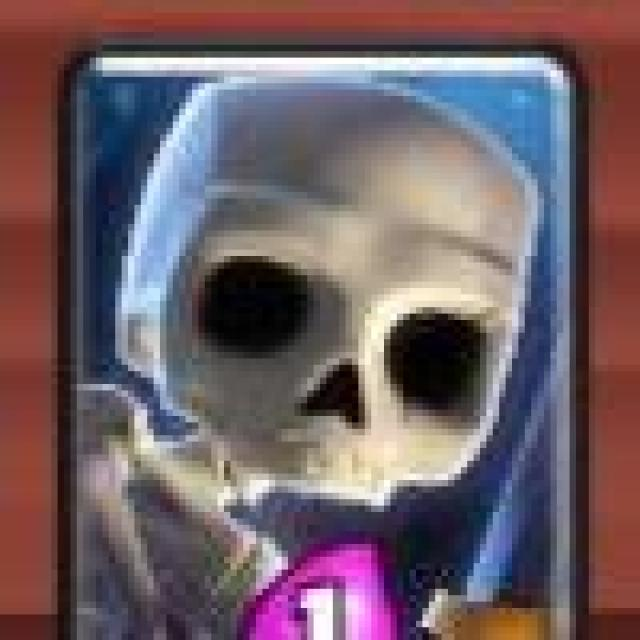Skeletons: (56, 50, 585, 640)
